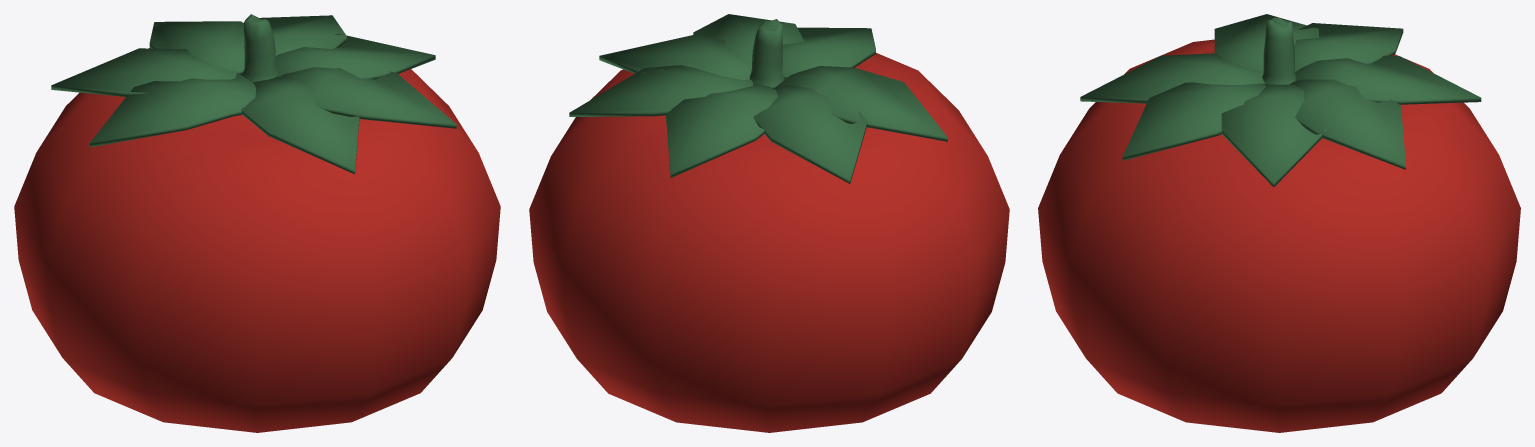
File: Tomato_One.fbx
The picture shows the model from 3 angles, left to right: view 1: azimuth 30°, elevation 25°; view 2: azimuth 150°, elevation 25°; view 3: azimuth 270°, elevation 25°; orthographic projection.
Visible parts, largest first — view 1: Tomato_One; view 2: Tomato_One; view 3: Tomato_One.
Part boxes in pixels (left/top/right/bottom): Tomato_One: left=14, top=14, right=500, bottom=432; Tomato_One: left=529, top=14, right=1009, bottom=432; Tomato_One: left=1038, top=14, right=1520, bottom=432.
Bounding box in the file's own units: 53.1 × 42.66 × 53.1.
